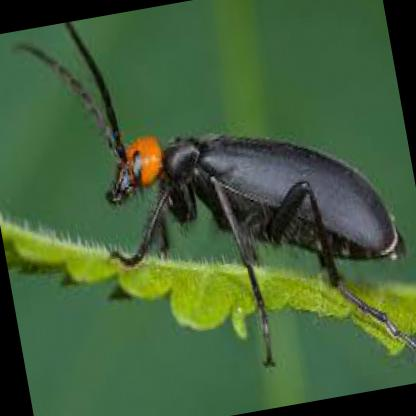blister beetle: (19, 21, 416, 364)
